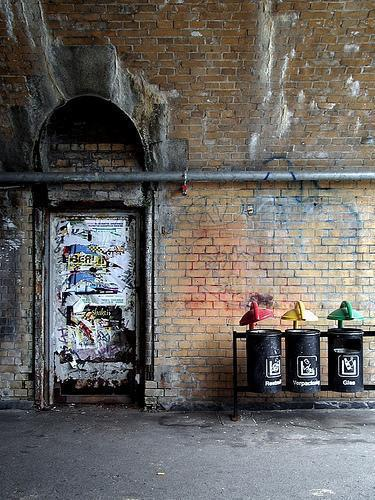Bote de Basura: (247, 325, 280, 393), (286, 328, 321, 392)
